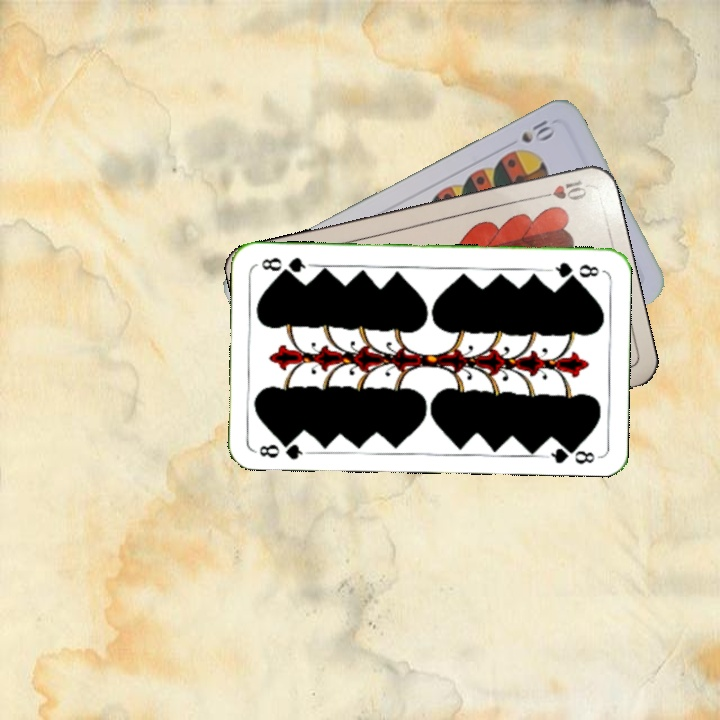G8: (252, 434, 311, 462), (546, 258, 602, 281)
H10: (531, 175, 590, 203)
S10: (517, 115, 558, 146)
